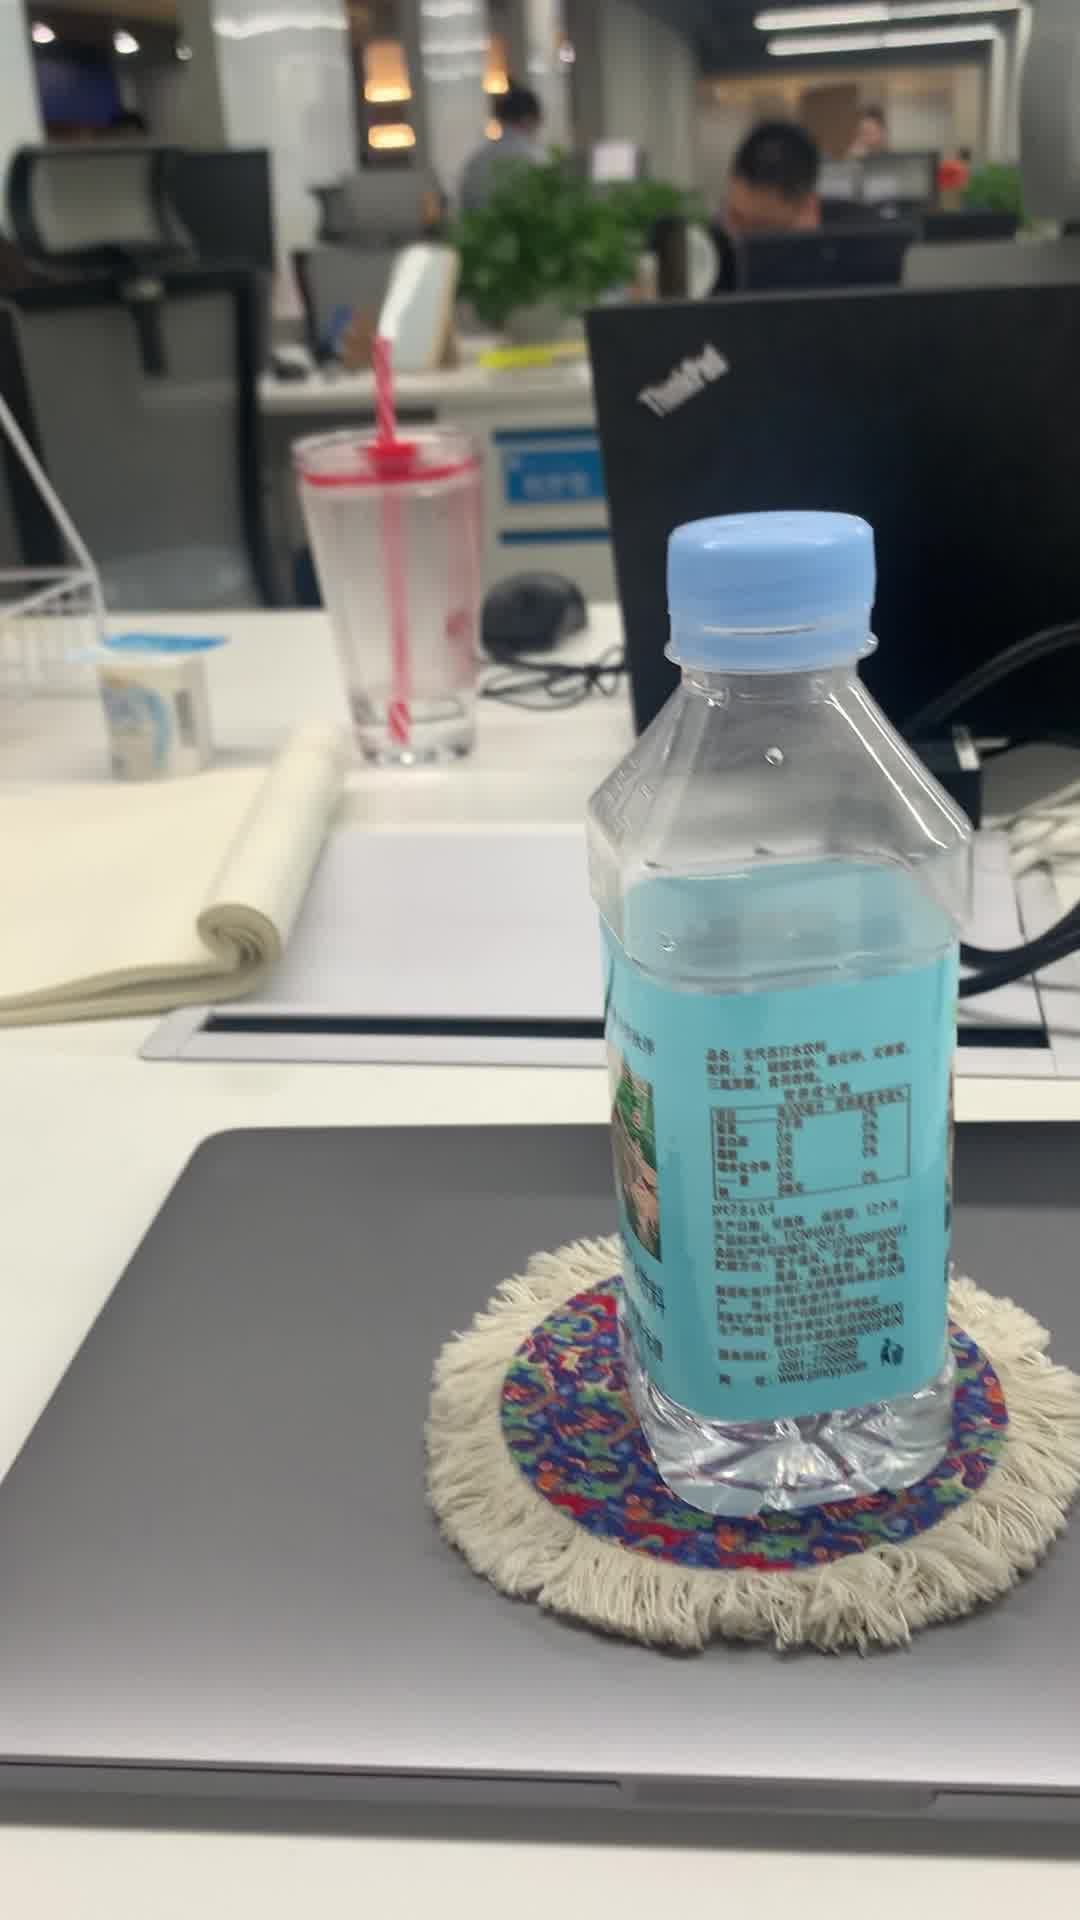水瓶: (576, 500, 982, 1520)
